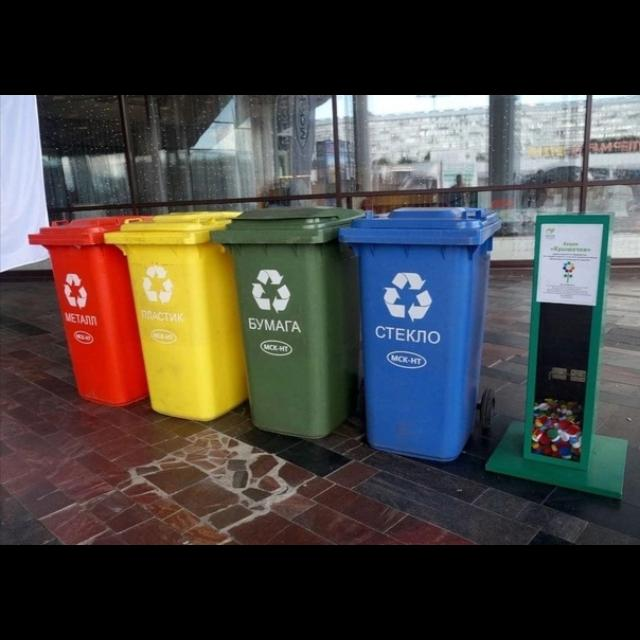Trash_Can_Closed: (339, 207, 503, 464), (209, 204, 364, 440), (105, 212, 245, 423), (27, 215, 156, 408)
